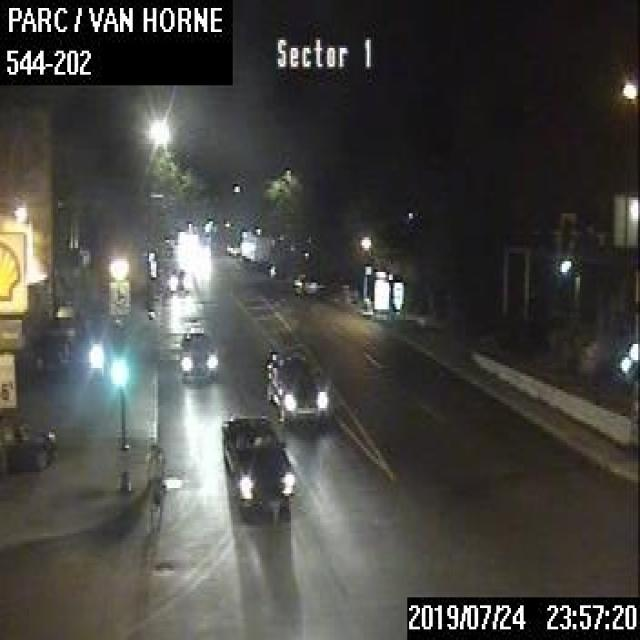cyclist: (142, 443, 164, 533)
vehicle: (220, 413, 294, 515), (264, 346, 329, 426), (2, 416, 56, 472), (178, 325, 218, 382), (31, 334, 73, 381), (50, 302, 81, 341), (292, 272, 316, 294), (167, 266, 188, 291)
